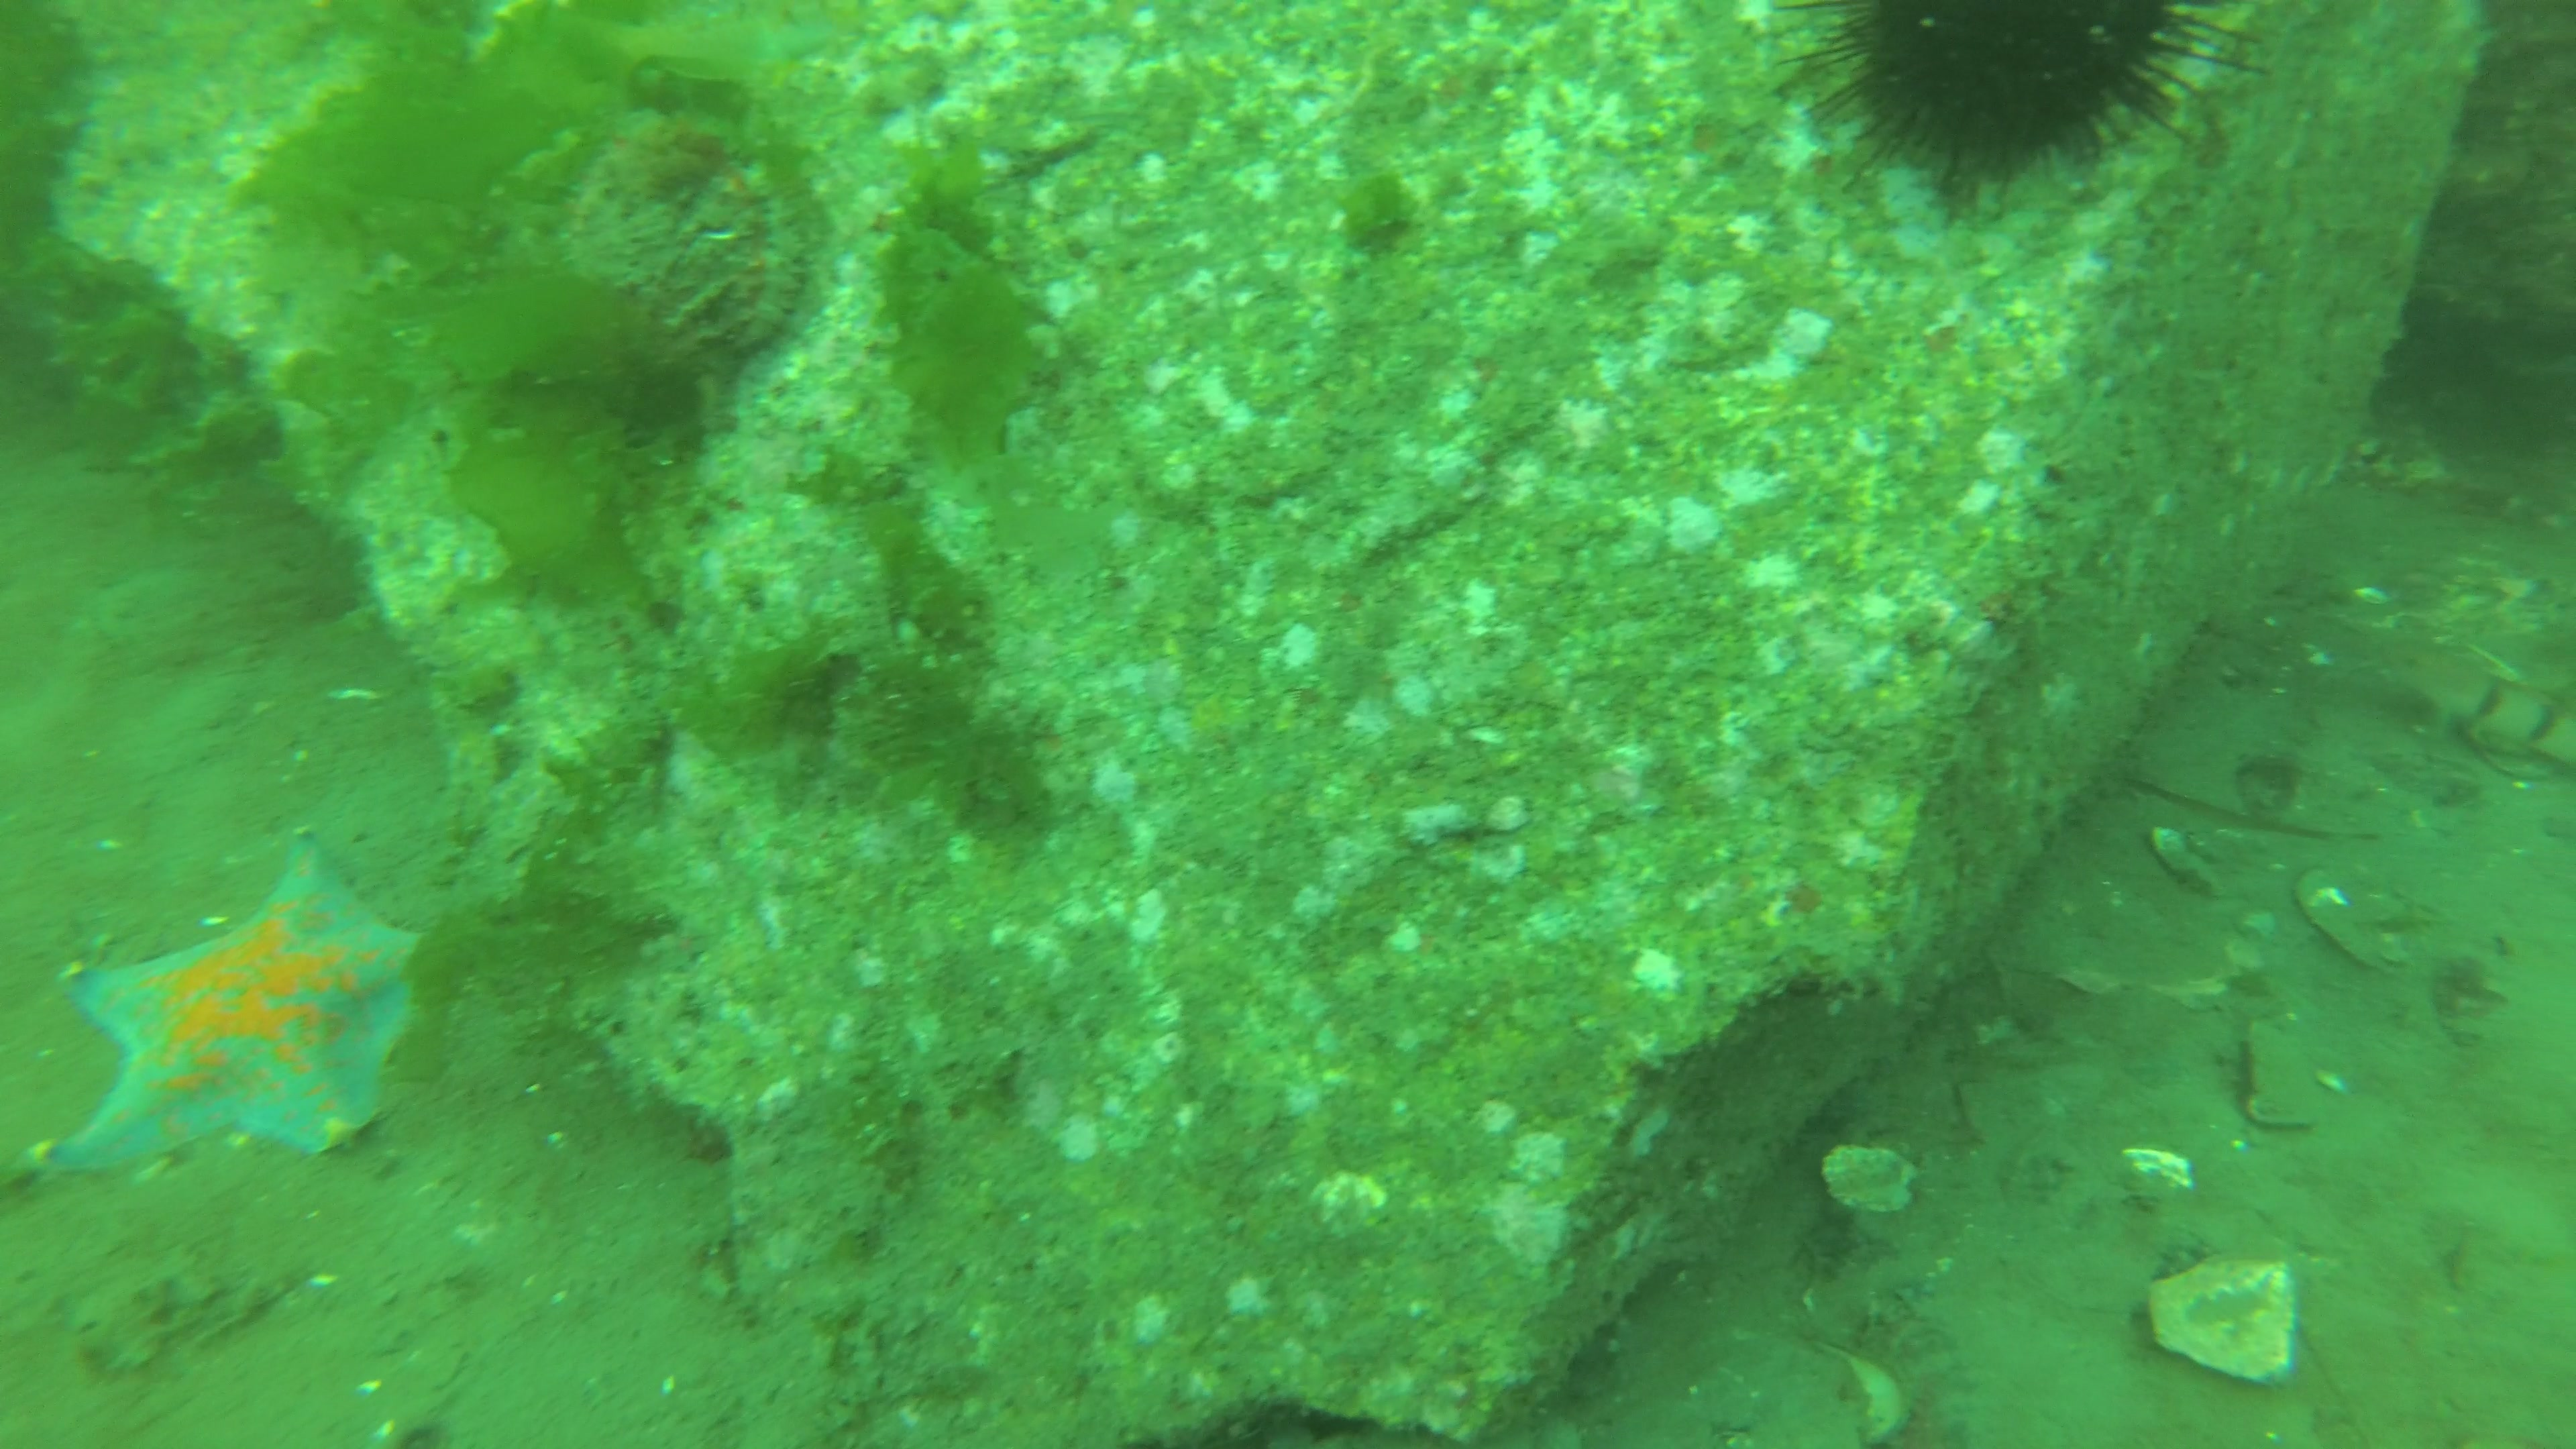echinus: (1778, 0, 2268, 226)
starfish: (34, 826, 428, 1182)
